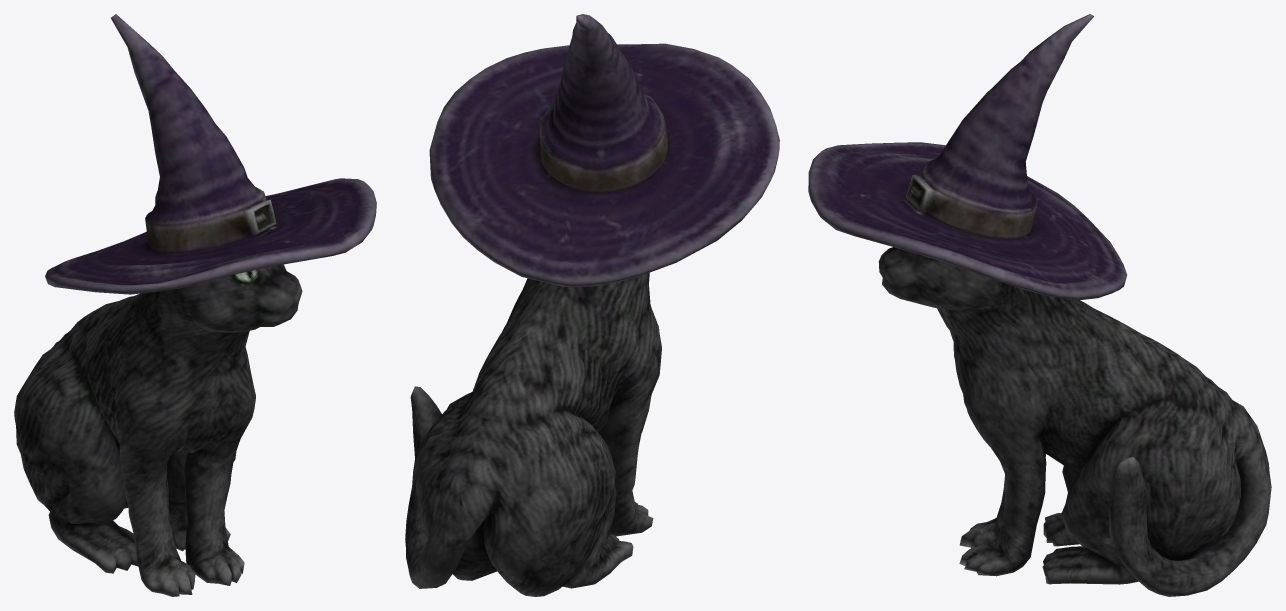
File: MZ4250 - Cat (black) with Hat.glb
3 views of the same model, side by side, from view 1: azimuth 30°, elevation 25°; view 2: azimuth 150°, elevation 25°; view 3: azimuth 270°, elevation 25° (orthographic). The views are drawn at different scales.
Parts seen in each view (by area): view 1: CatwHat; view 2: CatwHat; view 3: CatwHat.
Part boxes in pixels (box(x1,y1,x2,y2)): CatwHat: box(14, 14, 376, 596); CatwHat: box(405, 14, 779, 596); CatwHat: box(808, 14, 1271, 596).
Size of the model in its own units: 0.6422 by 1.11 by 0.8806.
Materials: 1 (1 with a texture image).
